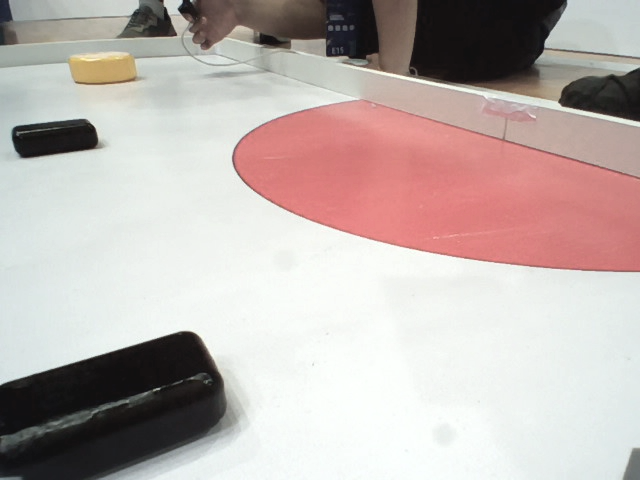black: (1, 330, 231, 477), (6, 113, 101, 162)
yellow: (68, 51, 139, 86)
